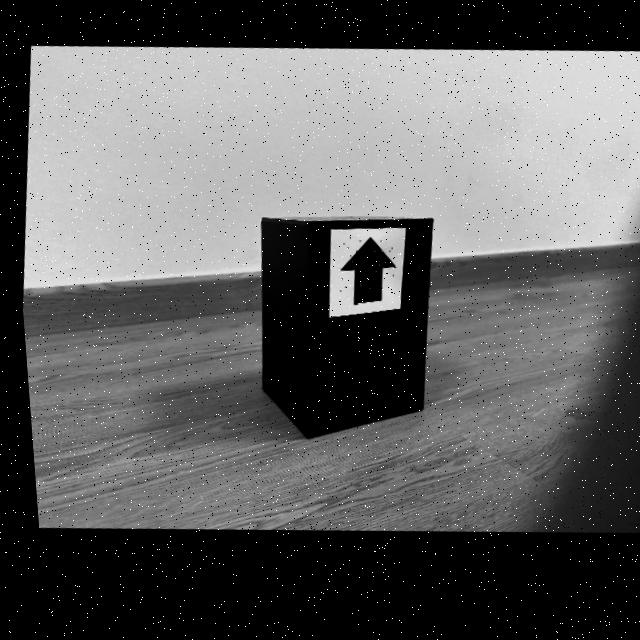UP: (336, 245, 390, 310)
